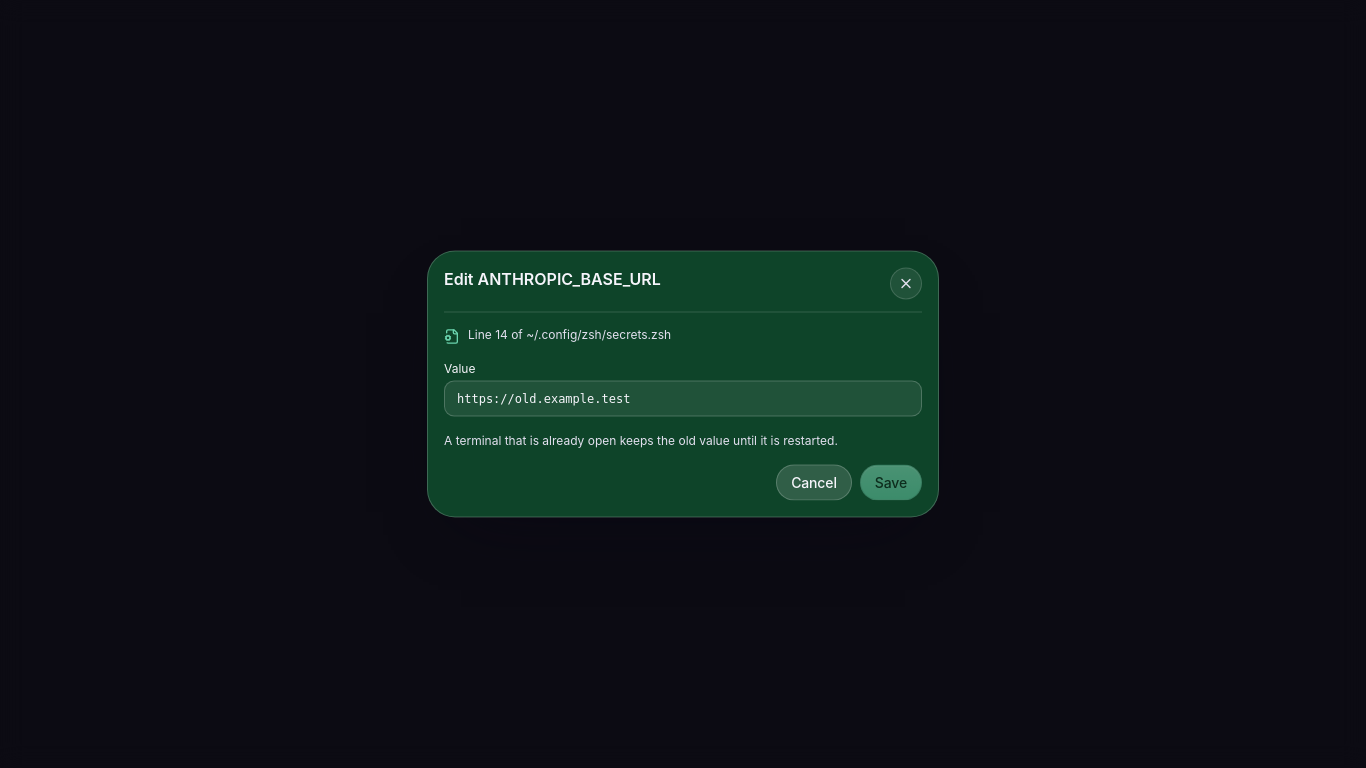
Test: ShellVariableEditModal › reports a refused write and says nothing changed
Replace the text in the field labelled "Value" with "https://new.example.test" at (683, 398), box [444,380,922,416]
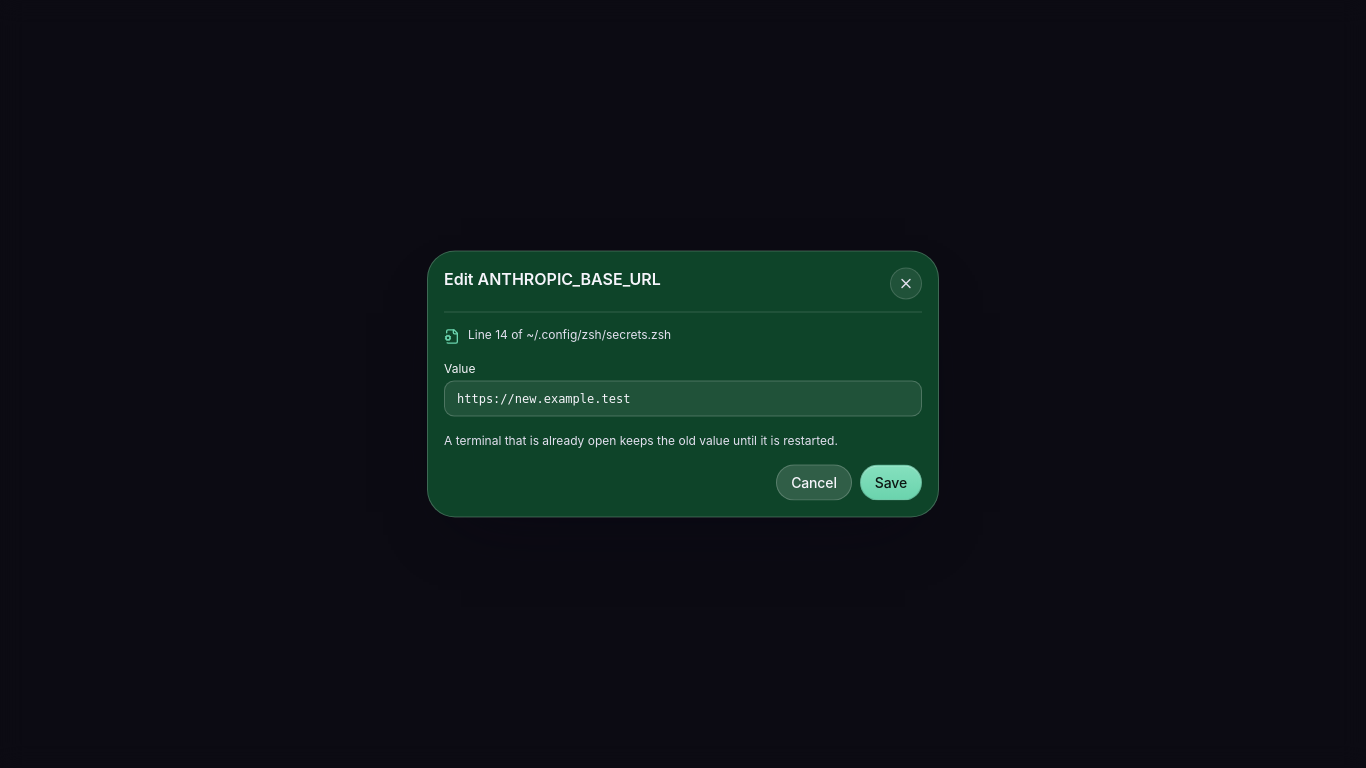
Click the 2nd button named "Save" at (891, 482), box [860,464,922,500]
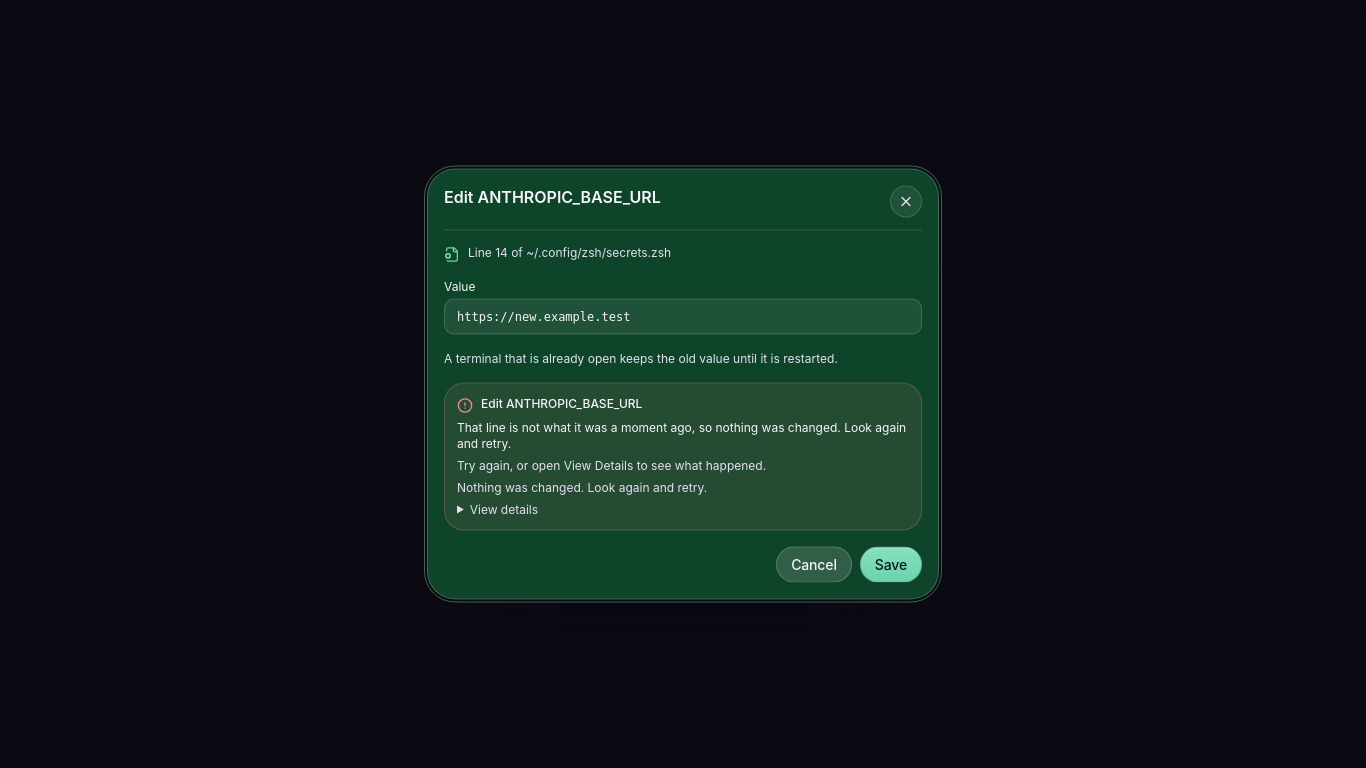
expect the text "That line is not what it was a moment ago, so nothing was changed. Look again and retry." is shown: met, box [457,420,906,450]
